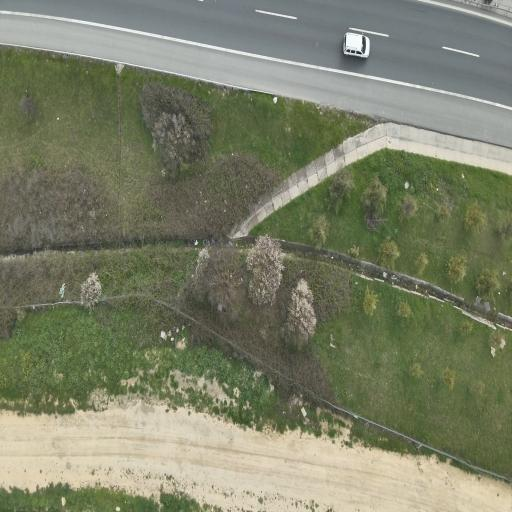car: (344, 33, 369, 57)
